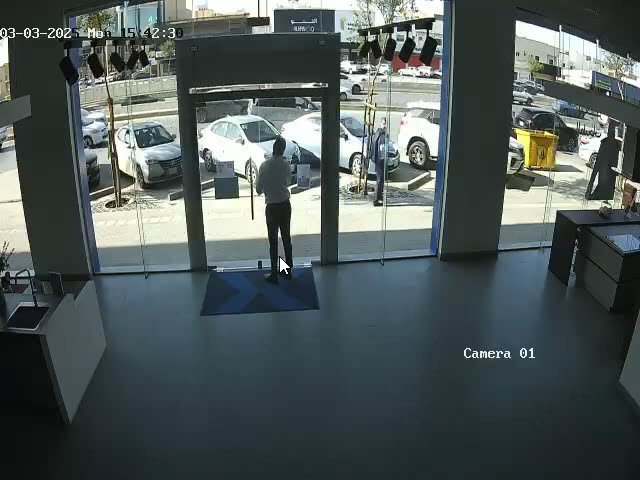employee: (255, 137, 294, 282), (371, 118, 387, 206)
